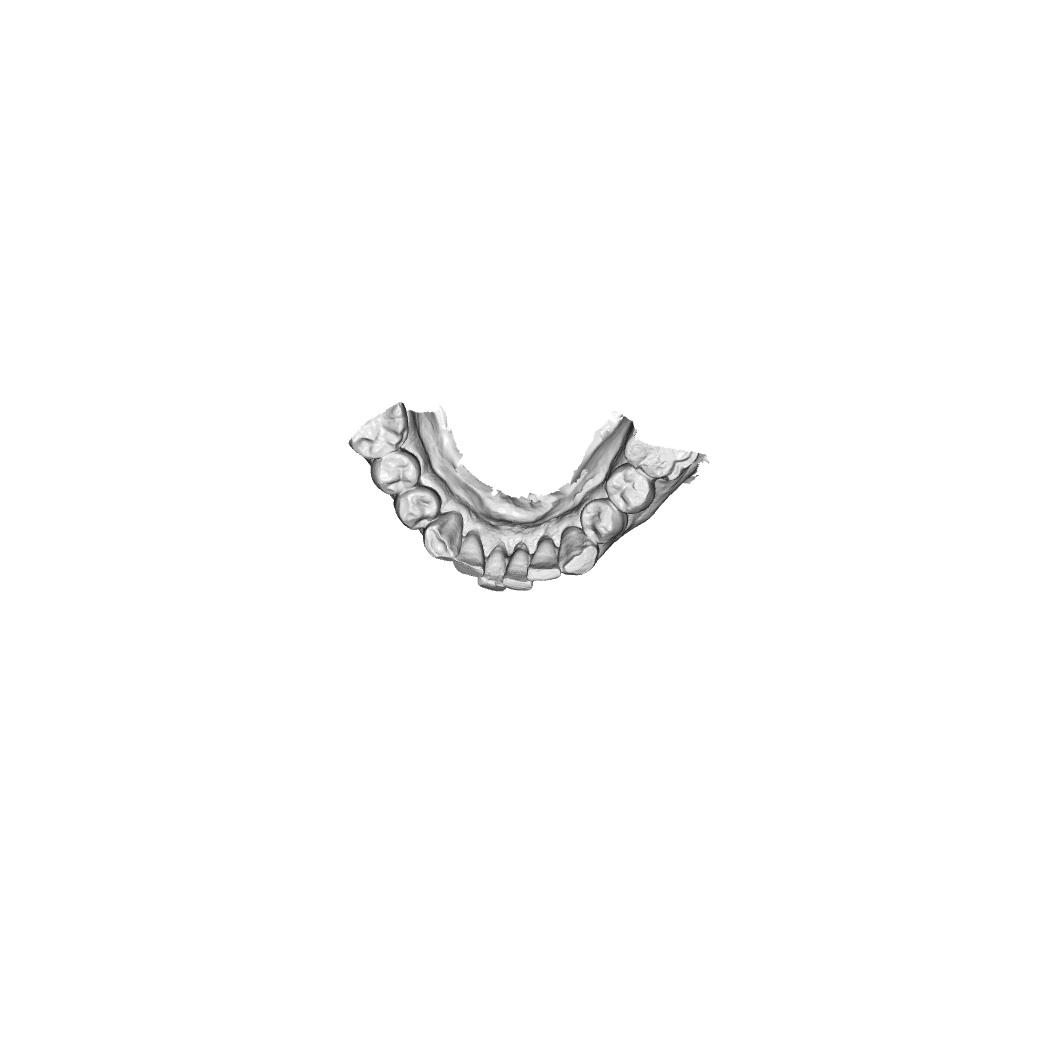canine: (422, 509, 465, 562), (557, 525, 600, 576)
incisor: (452, 530, 486, 578), (526, 537, 561, 583), (502, 542, 533, 593), (477, 543, 508, 592)
molar: (348, 401, 409, 461), (623, 442, 698, 481)
premolar: (604, 462, 657, 514), (370, 448, 422, 496), (579, 497, 629, 545), (393, 485, 442, 531)
